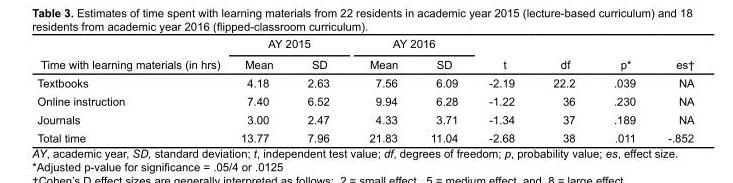table: (36, 36, 693, 144)
table column: (36, 36, 229, 144), (348, 36, 413, 144), (472, 36, 533, 144), (229, 36, 289, 144), (533, 36, 593, 144), (289, 36, 348, 144), (413, 36, 472, 144), (593, 36, 651, 144), (651, 36, 693, 144)
table column header: (36, 36, 693, 73)
table row: (36, 53, 693, 73), (36, 91, 693, 110), (36, 73, 693, 91), (36, 110, 693, 128), (36, 36, 693, 53), (36, 128, 693, 144)
table spanning cell: (36, 36, 229, 73), (472, 36, 533, 73), (533, 36, 593, 73), (593, 36, 651, 73), (348, 36, 472, 53), (229, 36, 348, 53), (651, 36, 693, 73)
